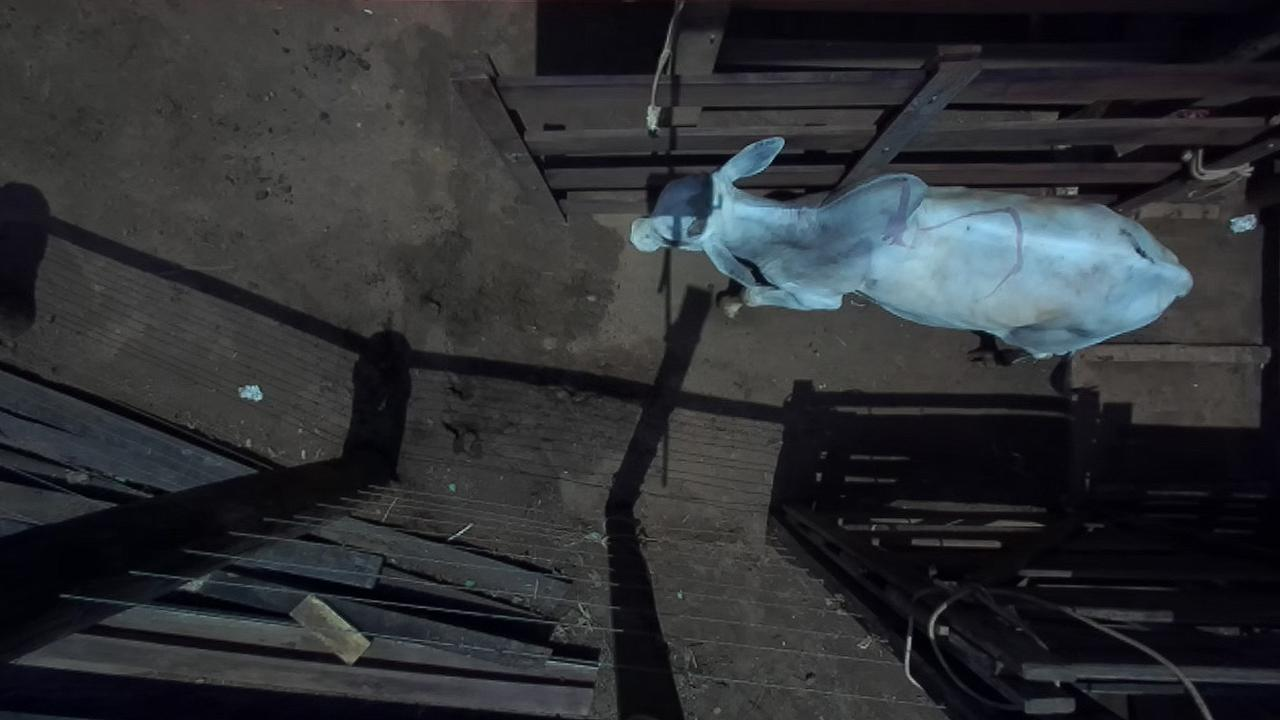cattle: (628, 134, 1194, 367)
